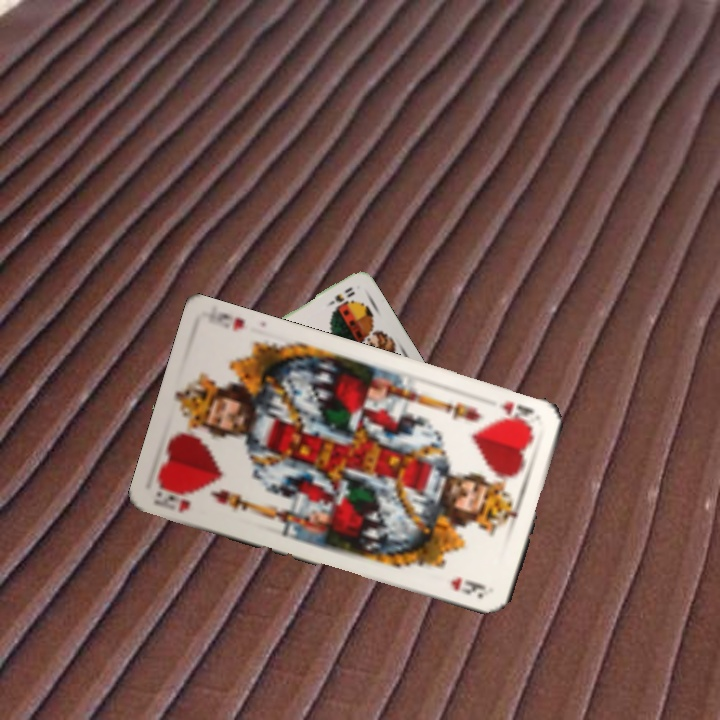HK: (151, 483, 193, 517), (495, 397, 537, 430)
SO: (324, 283, 358, 308)
